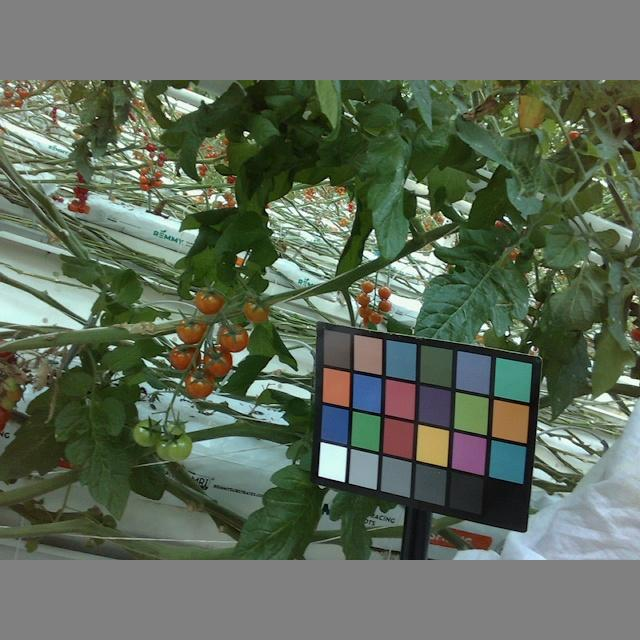green: (129, 417, 163, 447), (163, 434, 193, 461), (165, 416, 185, 435)
pink: (183, 367, 218, 399), (201, 344, 233, 378), (167, 343, 202, 374), (217, 321, 250, 353), (175, 315, 208, 345), (193, 288, 225, 315), (242, 296, 270, 322)
